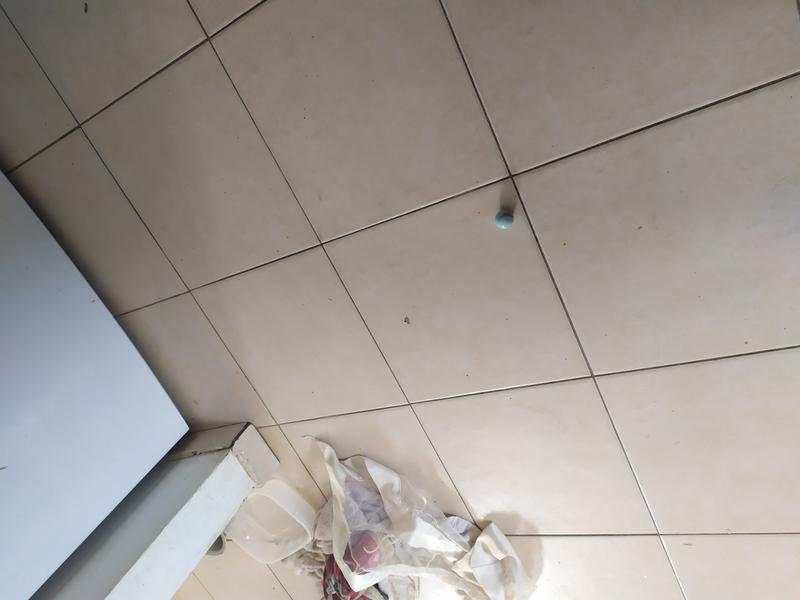Warning: (493, 207, 516, 232)
